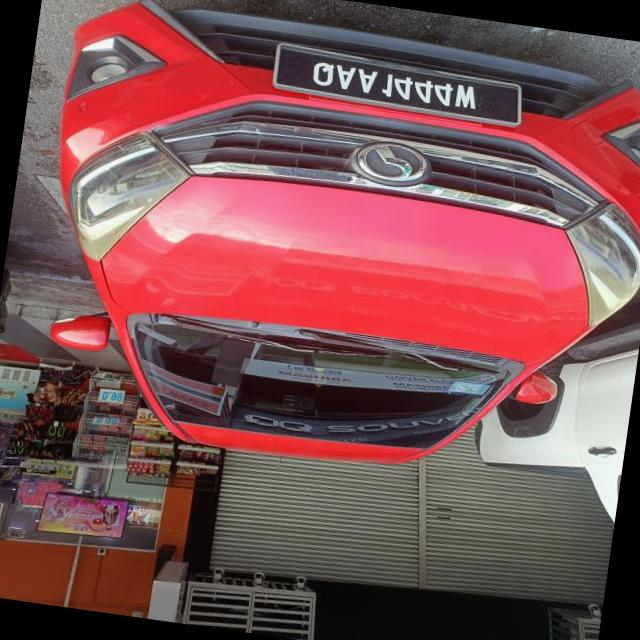PeroduaAxia: (17, 0, 640, 506)
